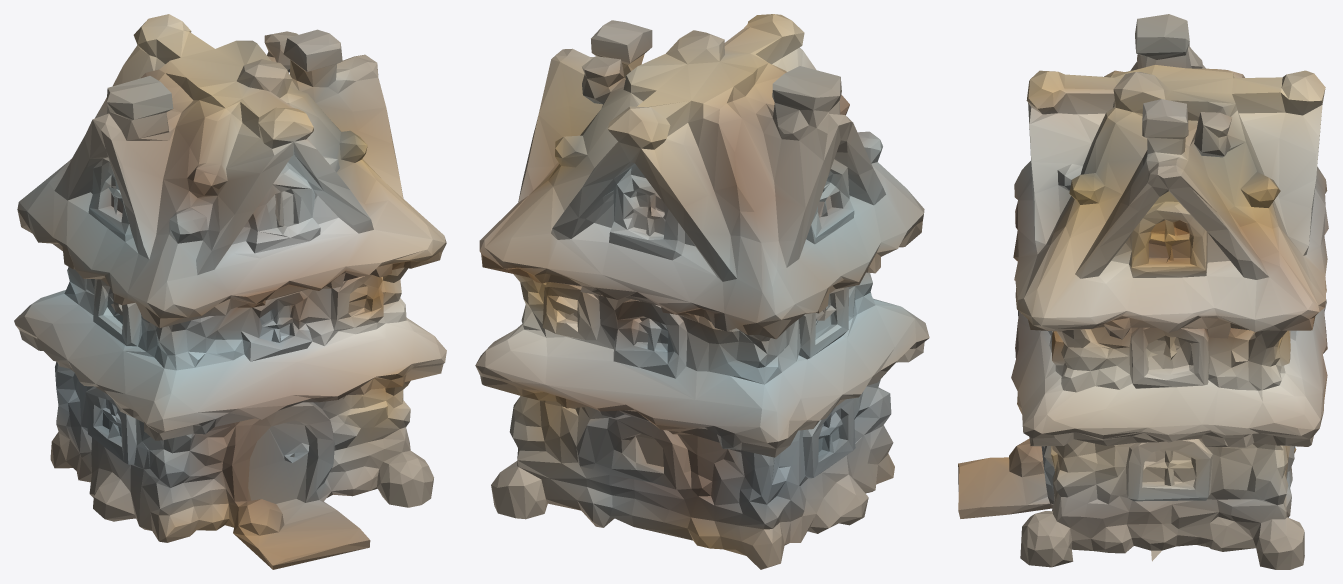
Rendered from kartopukulesi.glb.
The picture shows the model from 3 angles, left to right: view 1: azimuth 30°, elevation 25°; view 2: azimuth 150°, elevation 25°; view 3: azimuth 270°, elevation 25°; orthographic projection. The views are drawn at different scales.
Parts seen in each view (by area): view 1: geometry_0; view 2: geometry_0; view 3: geometry_0.
Part boxes in pixels (left/top/right/bottom): geometry_0: left=14, top=14, right=446, bottom=569; geometry_0: left=475, top=14, right=929, bottom=569; geometry_0: left=958, top=14, right=1328, bottom=569.
Bounding box in the file's own units: 0.7493 × 1 × 0.7714.
